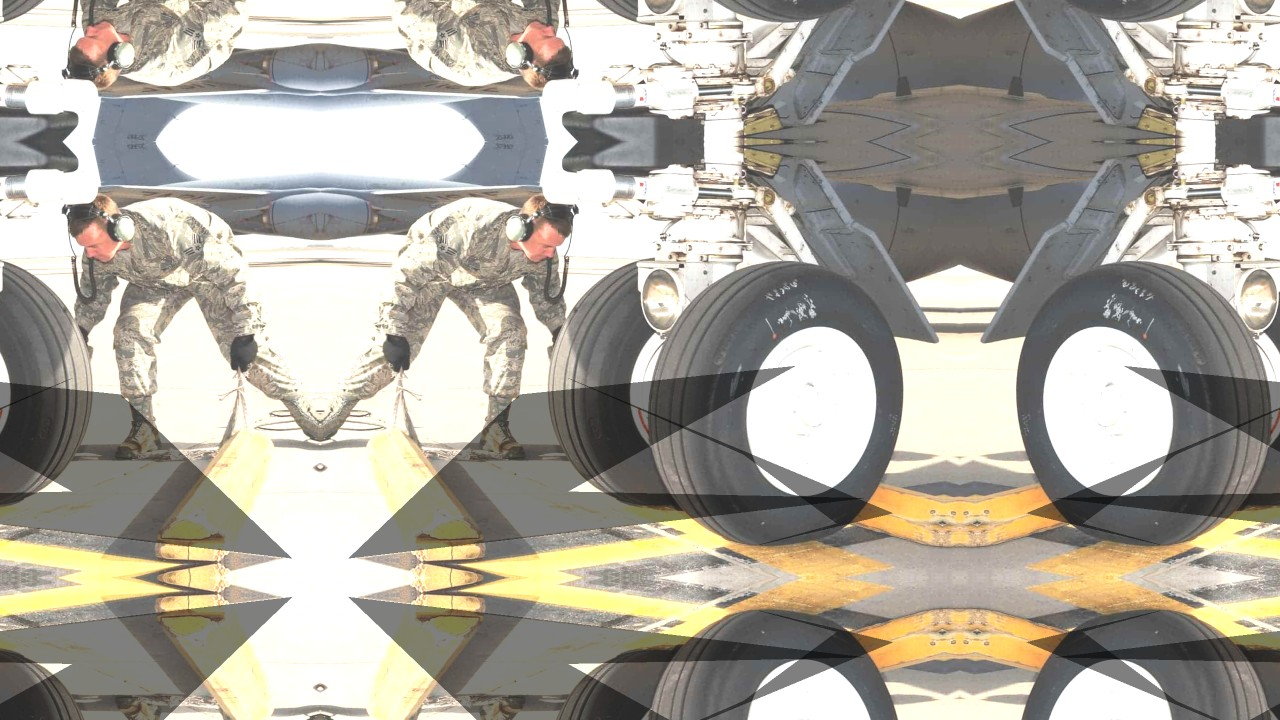chock: (146, 423, 282, 567), (358, 423, 494, 567), (146, 589, 282, 720), (358, 589, 494, 720)
wheel: (640, 253, 907, 550), (1013, 253, 1280, 550), (542, 251, 700, 508), (640, 606, 907, 720), (1013, 606, 1280, 720), (0, 251, 98, 508), (1220, 251, 1280, 508), (542, 648, 700, 720), (640, 0, 907, 30), (1013, 0, 1280, 30), (0, 648, 98, 720), (542, 0, 700, 32), (1220, 648, 1280, 720)
